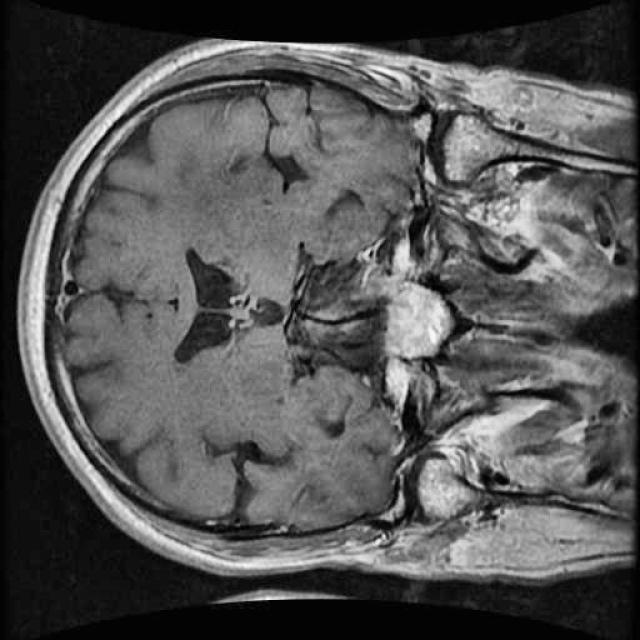Tumor: (355, 254, 464, 374)
